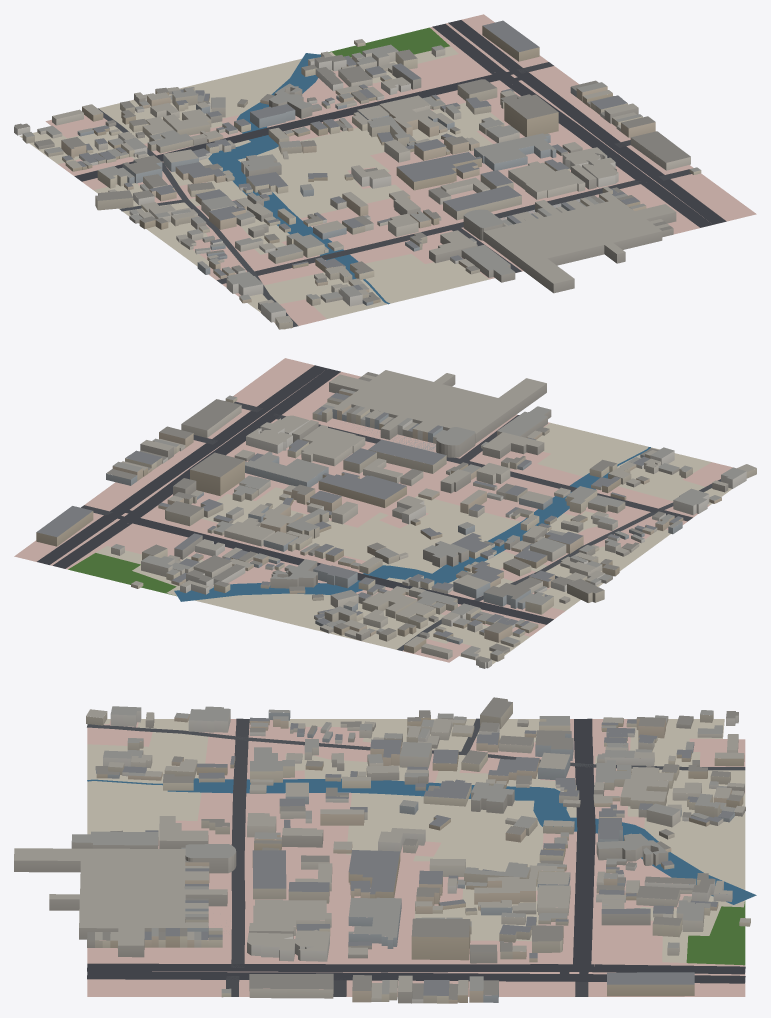
The picture shows the model from 3 angles, top to bottom: view 1: azimuth 30°, elevation 25°; view 2: azimuth 150°, elevation 25°; view 3: azimuth 270°, elevation 25°; orthographic projection. The views are drawn at different scales.
Visible parts, largest first — view 1: buildings_roofs, landuse, buildings_walls, roads, water; view 2: buildings_roofs, landuse, buildings_walls, roads, water; view 3: buildings_roofs, landuse, buildings_walls, roads, water.
Part boxes in pixels (box(x1,y1,x2,y2)): buildings_roofs: box(14, 20, 700, 323); landuse: box(19, 14, 756, 329); buildings_walls: box(14, 26, 701, 329); roads: box(74, 20, 726, 327); water: box(208, 53, 389, 304); buildings_roofs: box(36, 370, 756, 662); landuse: box(14, 358, 732, 664); buildings_walls: box(36, 375, 756, 668); roads: box(37, 365, 720, 650); water: box(174, 447, 650, 601); buildings_roofs: box(14, 697, 750, 999); landuse: box(87, 719, 745, 996); buildings_walls: box(14, 700, 750, 1003); roads: box(87, 718, 745, 996); water: box(87, 778, 756, 904).
Bounding box in the file's own units: 530 × 19.21 × 564.
